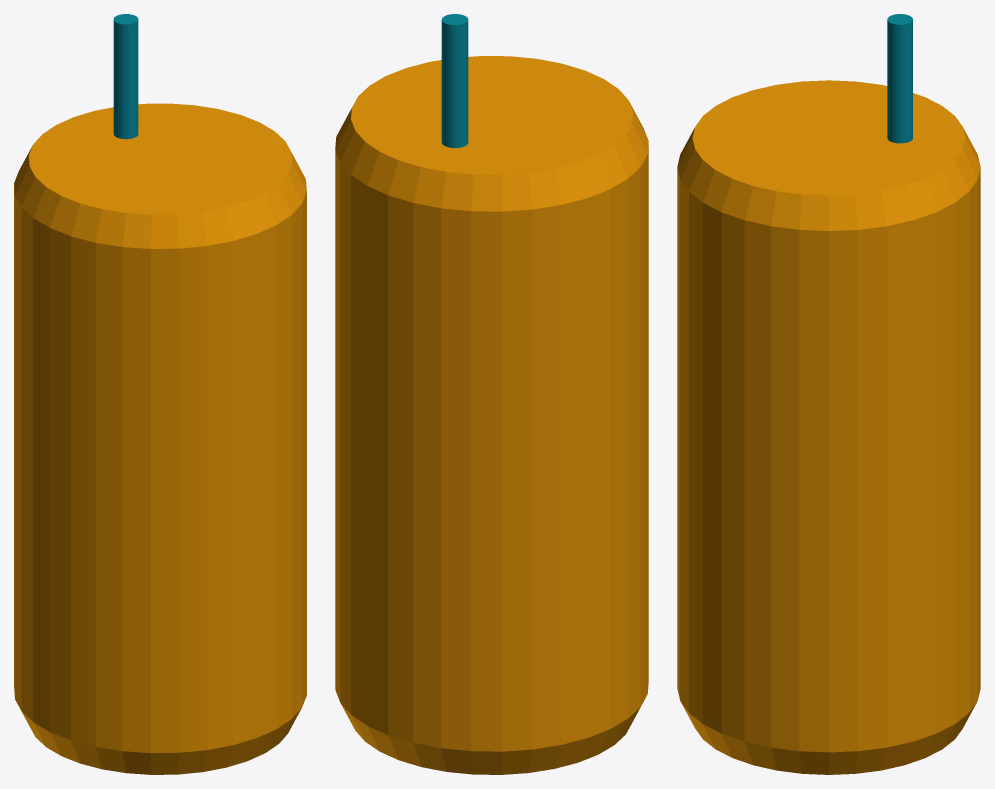
Rendered from waterbottle.fbx.
3 views of the same model, side by side, from view 1: azimuth 30°, elevation 25°; view 2: azimuth 150°, elevation 25°; view 3: azimuth 270°, elevation 25° (orthographic). The views are drawn at different scales.
Parts seen in each view (by area): view 1: Cylinder.003, Cylinder.004; view 2: Cylinder.003, Cylinder.004; view 3: Cylinder.003, Cylinder.004.
Boxes of the visible parts, x1,y1,x2,y2 form: Cylinder.003: (14,103,306,774); Cylinder.004: (113,14,138,139); Cylinder.003: (335,56,648,774); Cylinder.004: (441,14,468,147); Cylinder.003: (677,80,980,774); Cylinder.004: (887,14,912,143).
Size of the model in its own units: 11.41 by 28.95 by 11.41.
